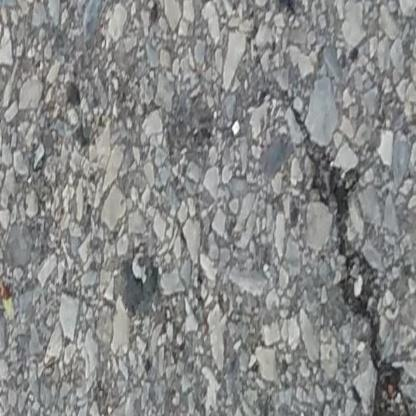Cracks: (276, 95, 416, 416)
